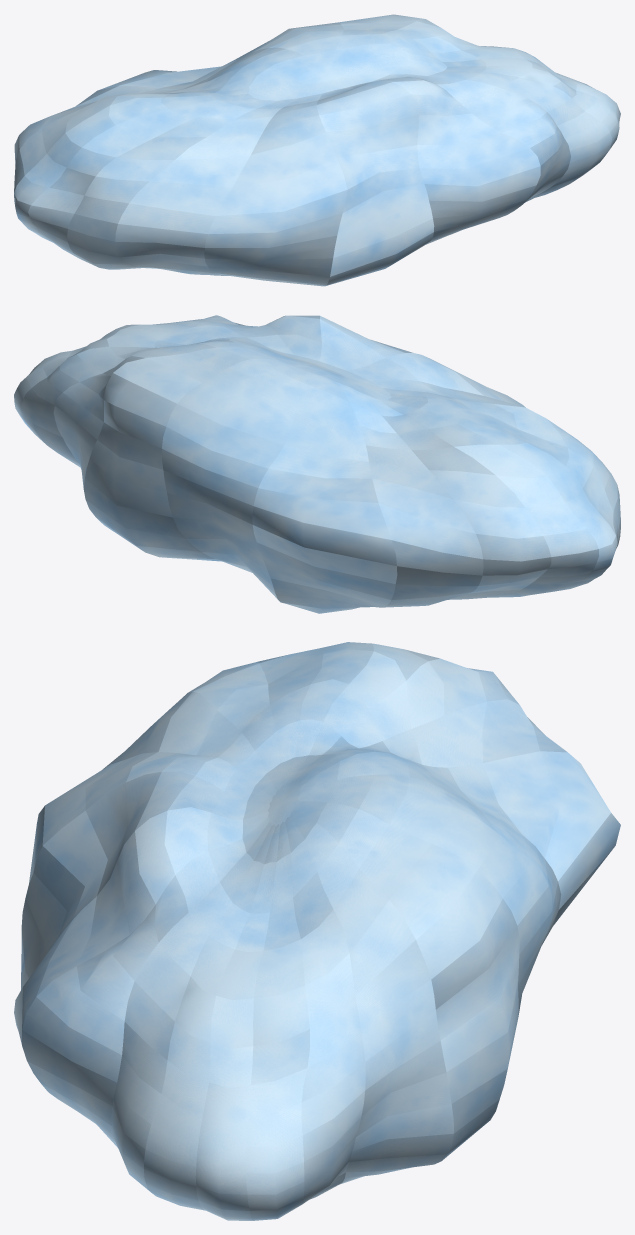
The model's file is cloud5fly.fbx.
3 renders of one model, top to bottom at view 1: azimuth 30°, elevation 25°; view 2: azimuth 150°, elevation 25°; view 3: azimuth 270°, elevation 25°, orthographic. The views are drawn at different scales.
Parts seen in each view (by area): view 1: pasted__pSphere2.001; view 2: pasted__pSphere2.001; view 3: pasted__pSphere2.001.
Part boxes in pixels (x1=…): pasted__pSphere2.001: x1=14, y1=14, x2=620, y2=286; pasted__pSphere2.001: x1=14, y1=315, x2=620, y2=613; pasted__pSphere2.001: x1=14, y1=642, x2=620, y2=1220.
Bounding box in the file's own units: 9795 × 3316 × 5395.
Materials: 1 (1 with a texture image).
